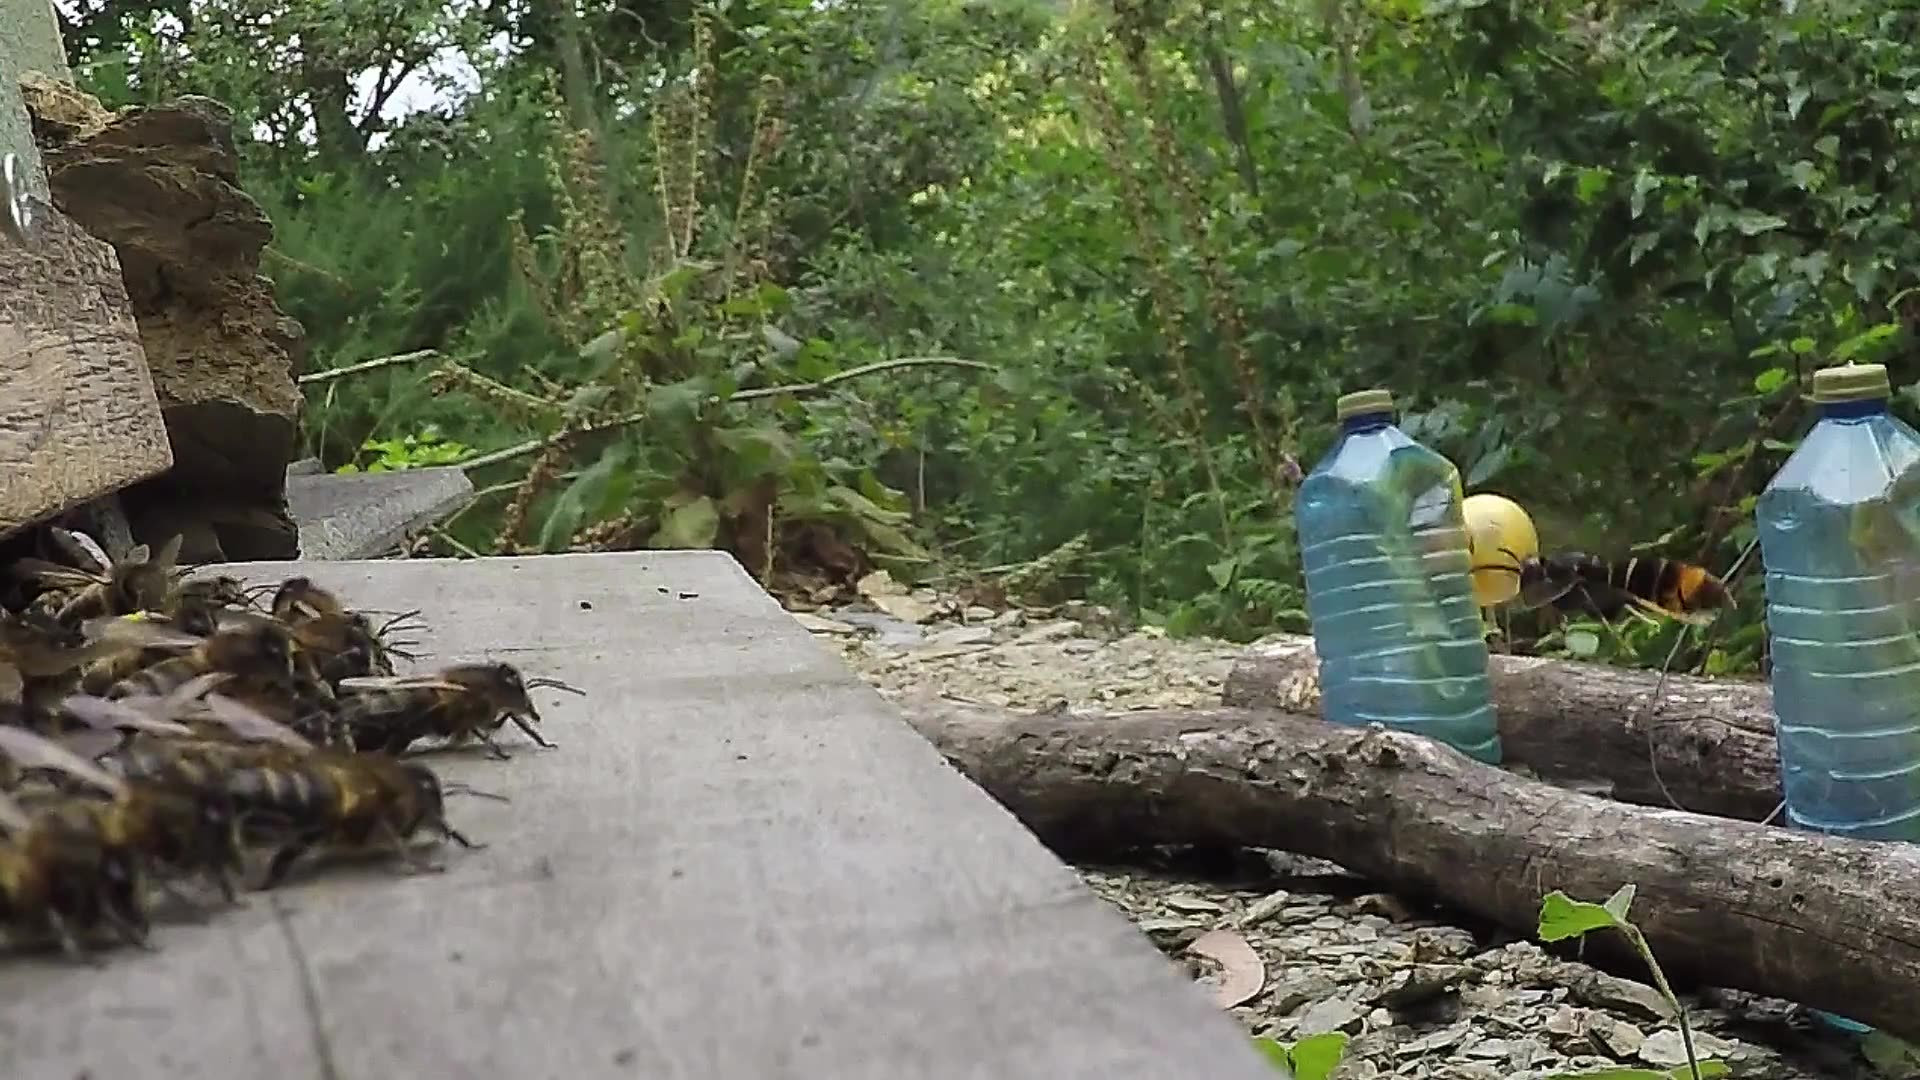bee: (5, 554, 471, 926), (353, 659, 542, 737)
hornet: (1495, 527, 1742, 644)
